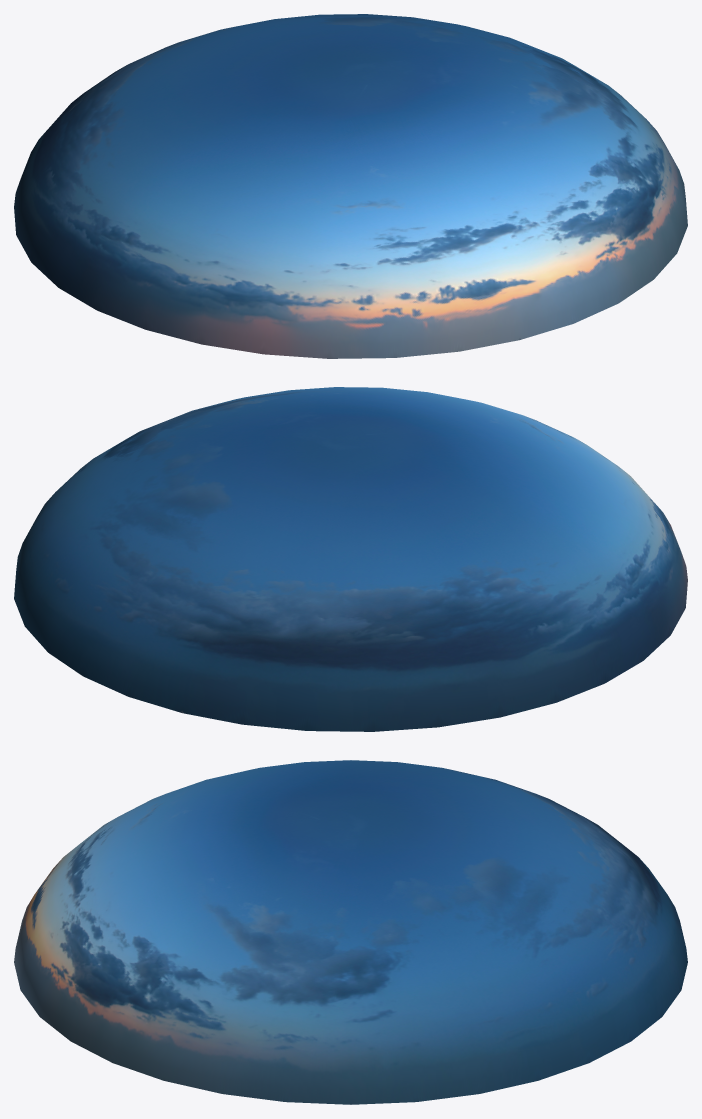
Rendered from Skydome.fbx.
3 views of the same model, one above another, from view 1: azimuth 30°, elevation 25°; view 2: azimuth 150°, elevation 25°; view 3: azimuth 270°, elevation 25° (orthographic).
Parts seen in each view (by area): view 1: pSphere1; view 2: pSphere1; view 3: pSphere1.
Boxes of the visible parts, box(x1,y1,x2,y2) form: pSphere1: box(14, 14, 687, 358); pSphere1: box(14, 387, 687, 731); pSphere1: box(14, 760, 687, 1104).
Bounding box in the file's own units: 4096 × 963 × 4096.
1 material, 1 textured.
